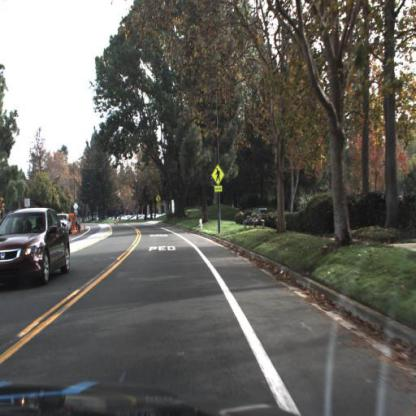car: (1, 208, 72, 288), (57, 213, 80, 233)
pedestrian: (114, 212, 124, 227)
